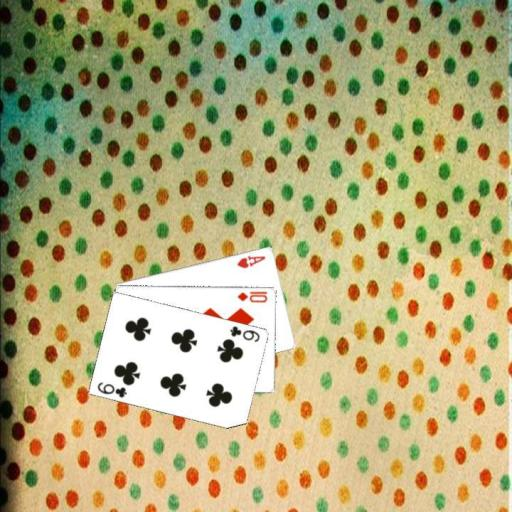10D: (235, 288, 269, 304)
6C: (227, 323, 262, 343), (95, 379, 129, 399)
AH: (234, 253, 267, 270)
